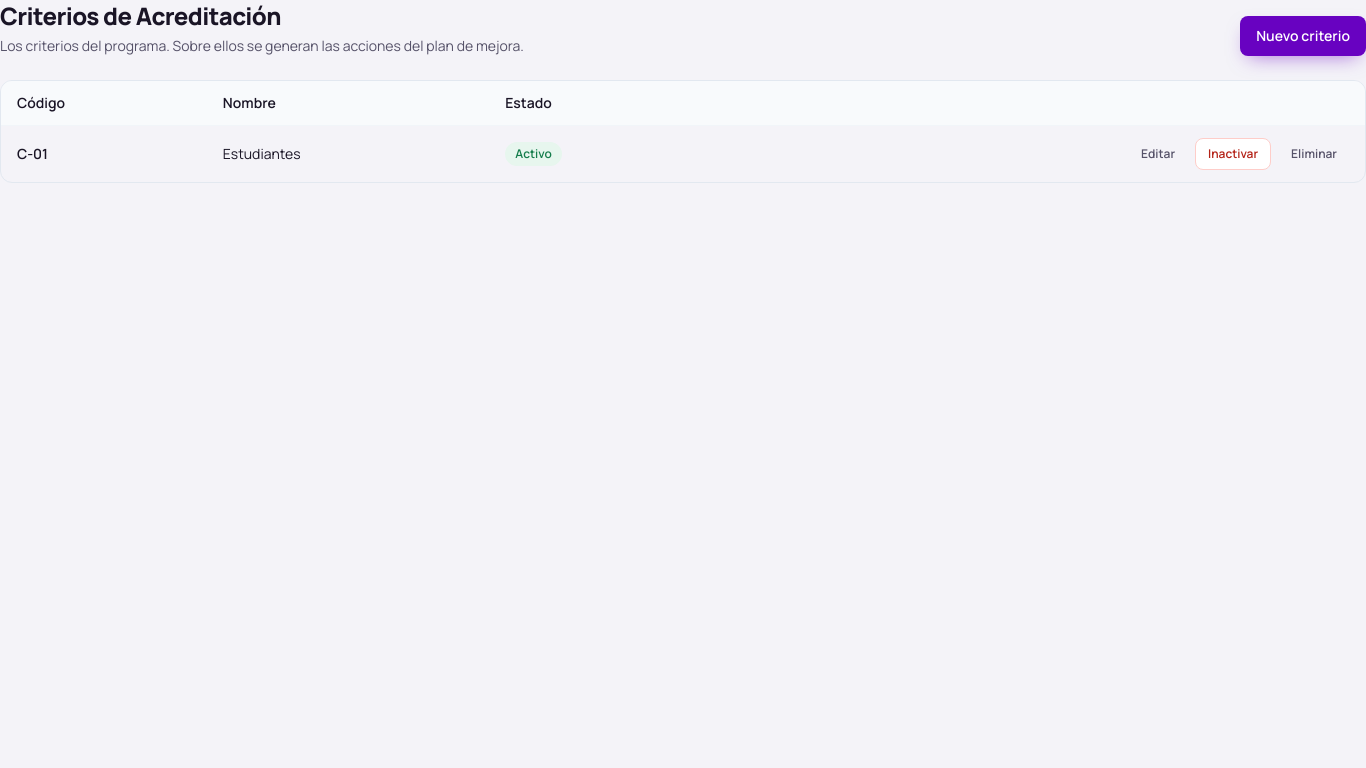
CriteriosPage — eliminar (RF-CH-032) › si el servidor rechaza, muestra su motivo con la sugerencia de inactivar y no cierra
Click the button "Eliminar" at (1314, 154), box top-left (1279, 138), bottom-right (1349, 170)
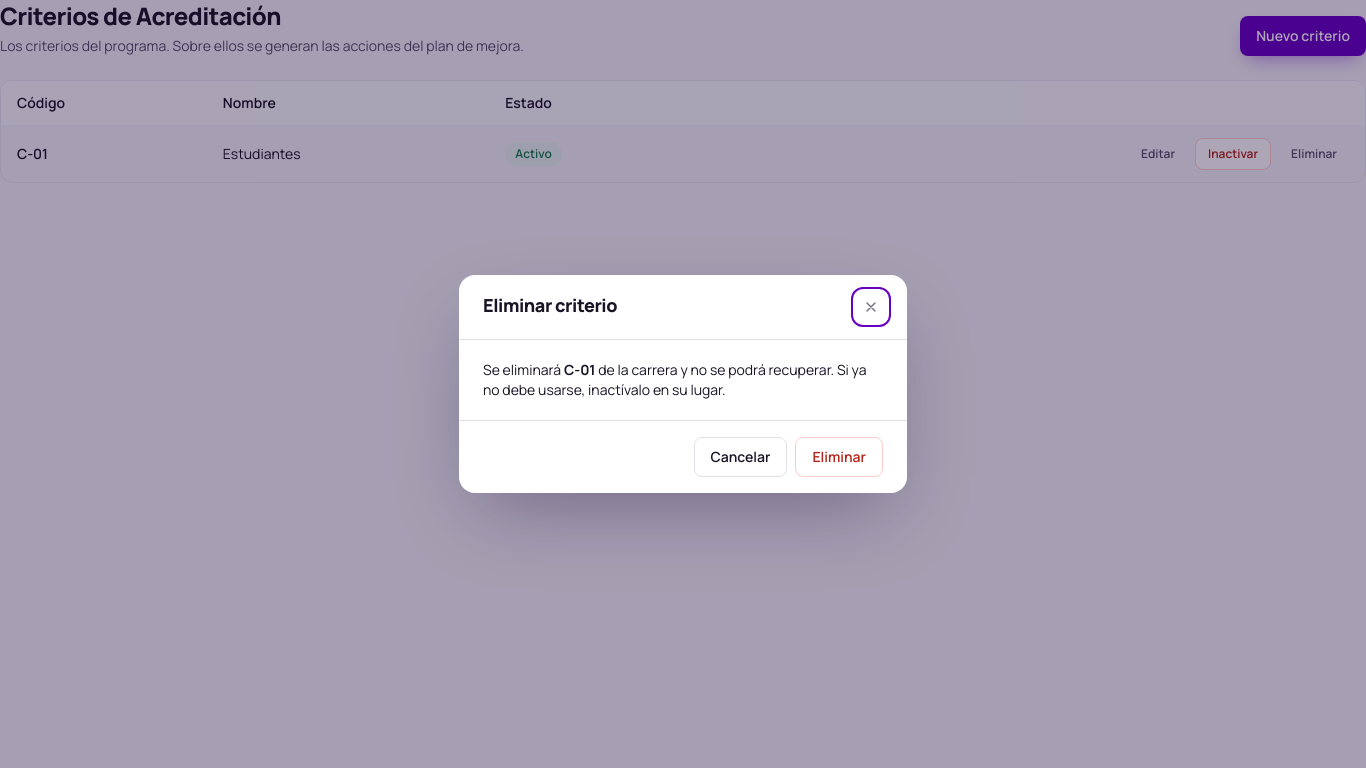
Click the button "Eliminar" at (839, 457), box top-left (795, 437), bottom-right (883, 477)
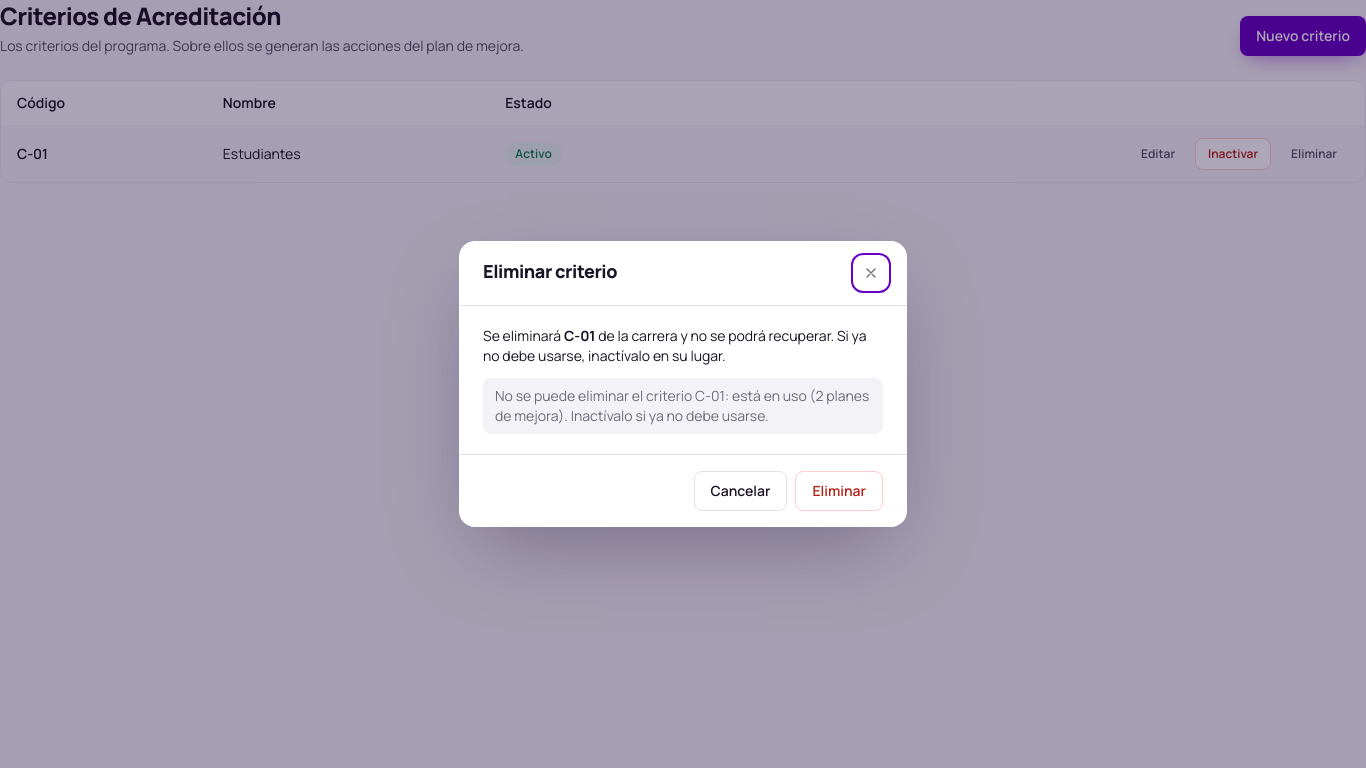
Expected: the dialog "Eliminar criterio" is shown, top-left (459, 241), bottom-right (907, 527)
Expected: the message shows "No se puede eliminar el criterio C-01: está en uso (2 planes de mejora). Inactívalo si ya no debe usarse.", top-left (495, 386), bottom-right (869, 425)
